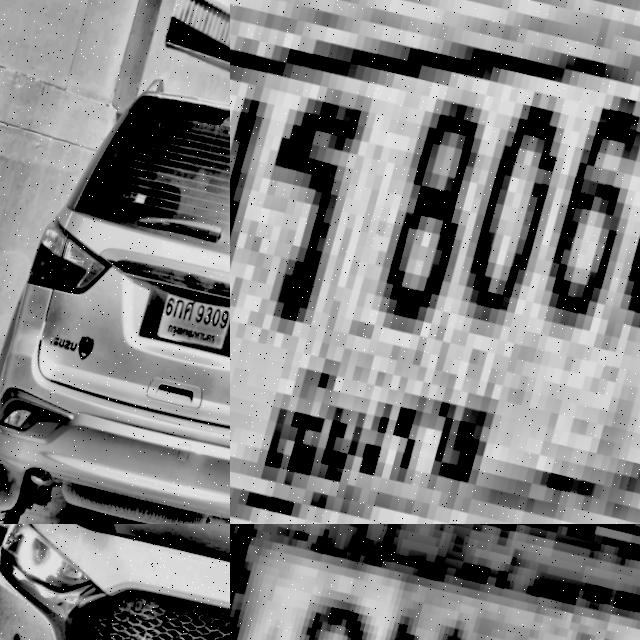license-plate: (230, 0, 640, 524), (230, 524, 640, 640), (154, 286, 230, 356)
